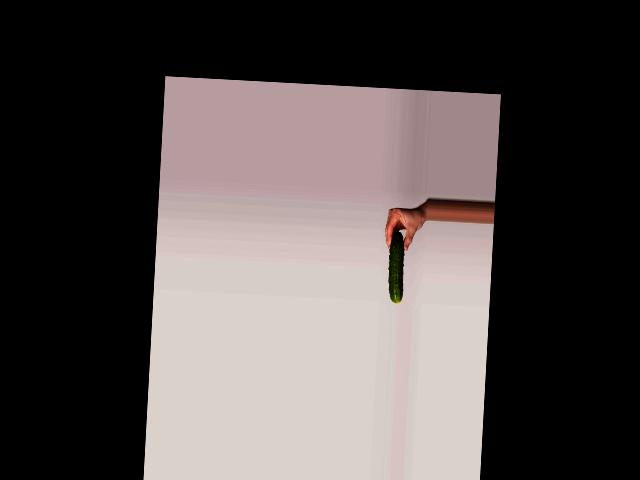cucumber: (387, 231, 405, 302)
